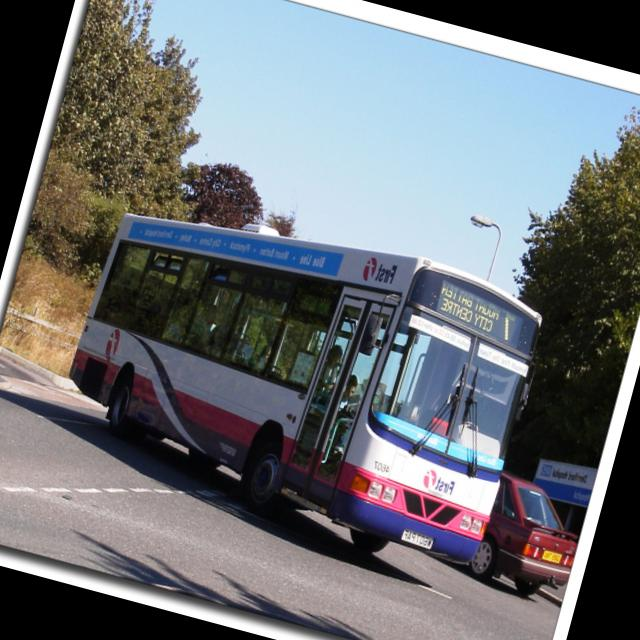bus: (44, 174, 558, 583)
